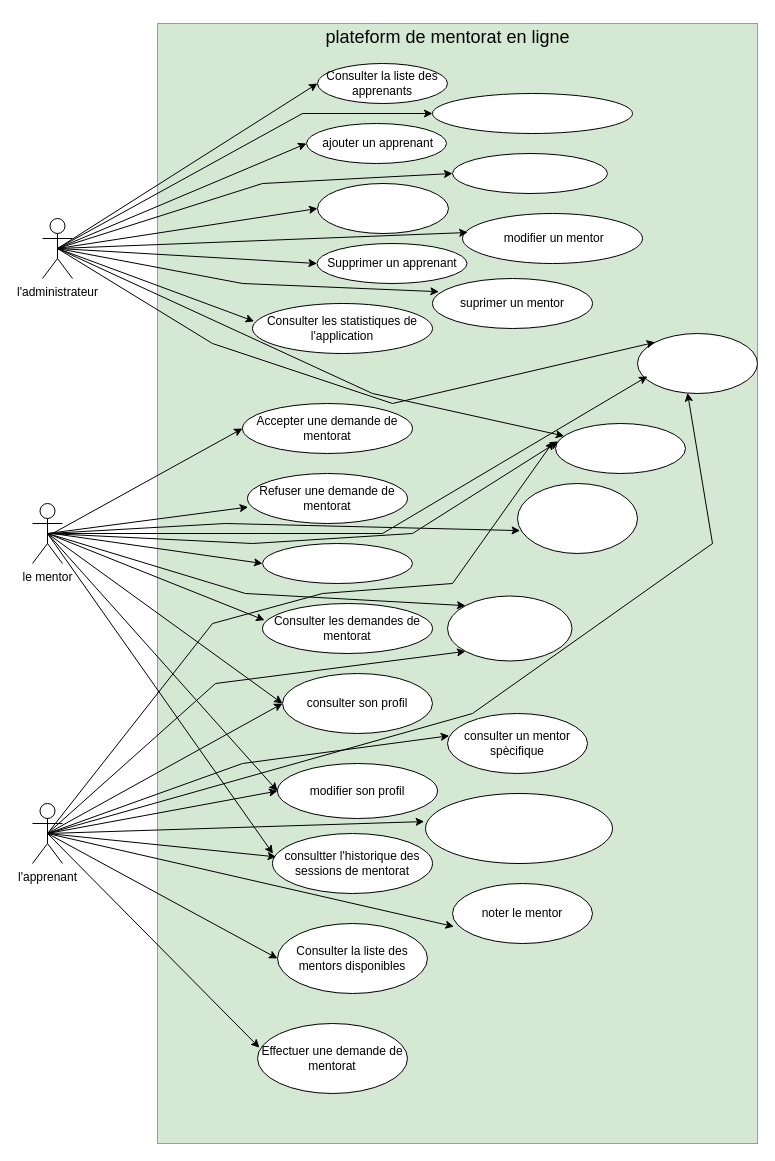
The diagram is 775 pixels wide and 1161 high, and some of its shapes have lost their labels. Here are the shapes that lost their labels. From the top down, the box of each, then its label:
(432, 92, 632, 134): Consulter la liste des mentors
(452, 152, 608, 194): ajouter un mentor
(316, 182, 448, 234): modifier un apprenant
(636, 332, 758, 394): se connecter
(554, 422, 686, 474): se deconnecter
(516, 482, 638, 554): suivre la progression d'un aprenant
(262, 542, 412, 584): Lancer une session de mentorat
(446, 595, 572, 661): système de messagerie
(424, 792, 612, 864): Filtrer des mentors par domaine, skills, prix, rating
